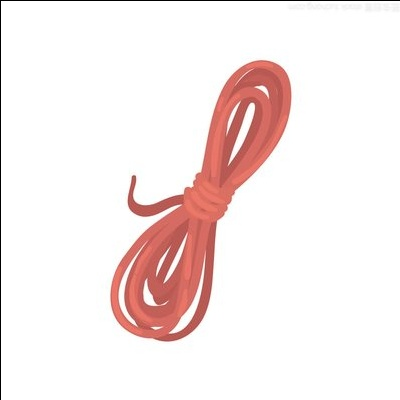9/可回收垃圾/绳子: (110, 60, 292, 342)
